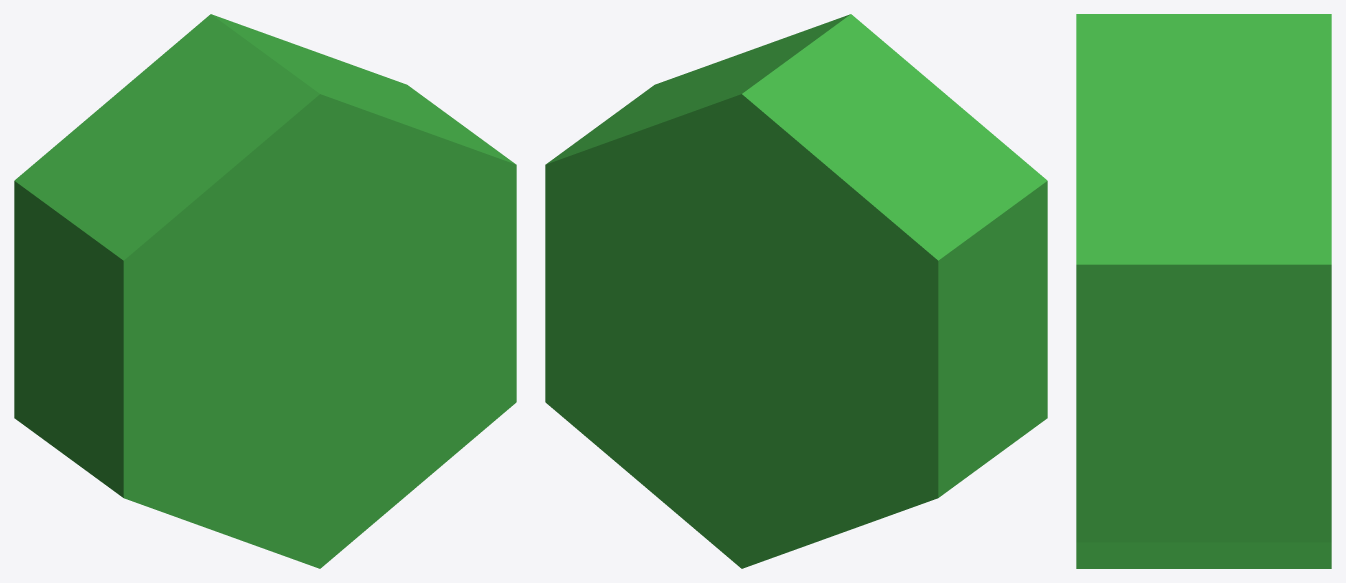
File: tinker.obj
3 renders of one model, left to right at view 1: azimuth 30°, elevation 25°; view 2: azimuth 150°, elevation 25°; view 3: azimuth 270°, elevation 25°, orthographic. The views are drawn at different scales.
Visible parts, largest first — view 1: obj_0; view 2: obj_0; view 3: obj_0.
Boxes of the visible parts, <box> form: obj_0: <box>14,14,516,568</box>; obj_0: <box>545,14,1047,568</box>; obj_0: <box>1076,14,1331,568</box>.
Bounding box in the file's own units: 8.66 × 10 × 4.17.
